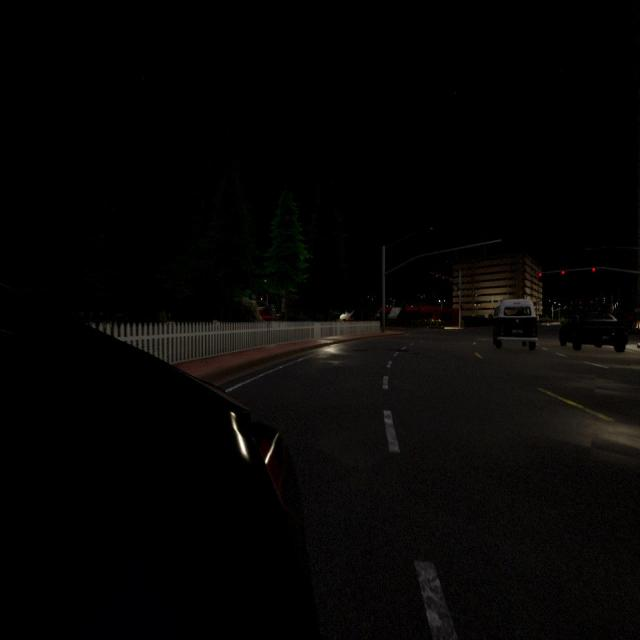Vehicle: (0, 290, 317, 640), (559, 310, 628, 352), (492, 300, 539, 350)
traffic_light: (538, 272, 542, 282), (592, 267, 596, 277), (561, 270, 565, 279), (460, 302, 463, 310), (449, 278, 452, 285), (442, 276, 444, 284), (436, 274, 438, 280)
